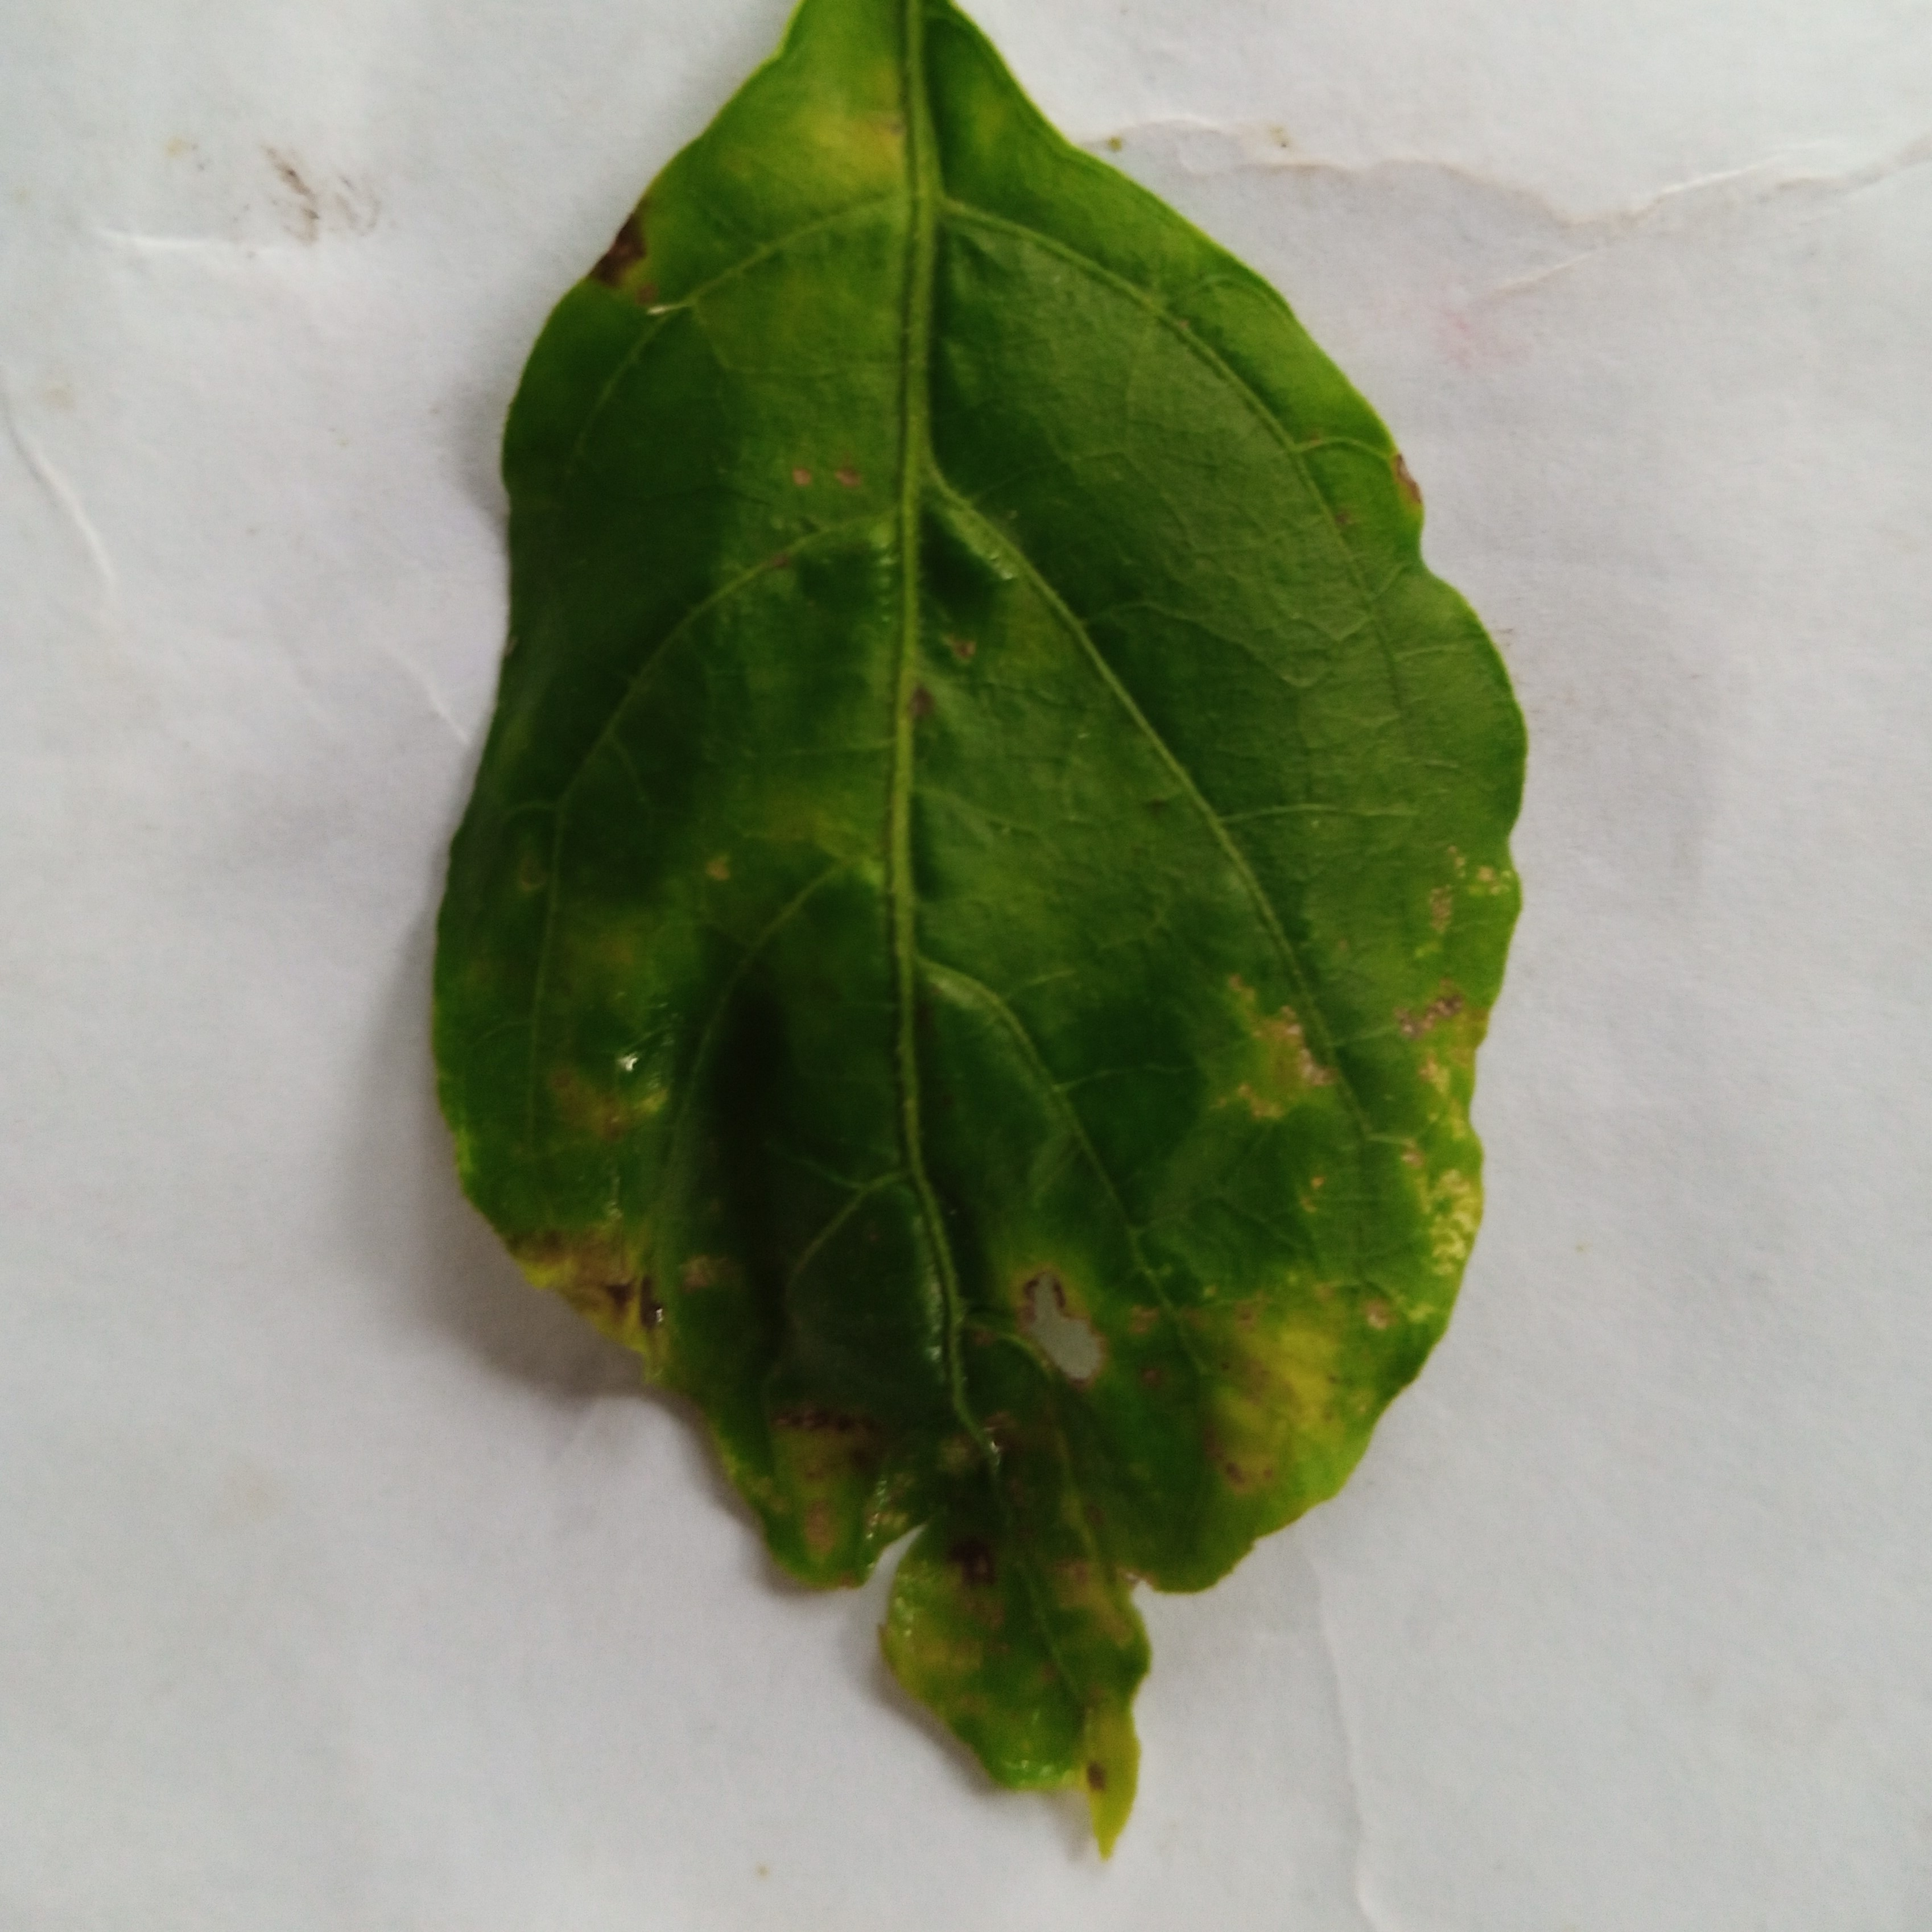Leaf: (257, 2, 1766, 1932)
